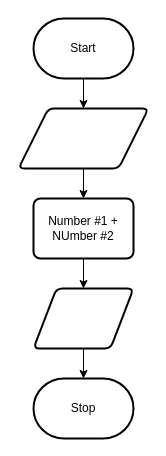
Image size: 166x456. Some labels were removed from this diagram. Here are the shapes that lost their labels. From the top down, the centre of each, then its label:
At (x=83, y=138): "Get Number #1 & Number #2".
At (x=83, y=318): "Show total".
